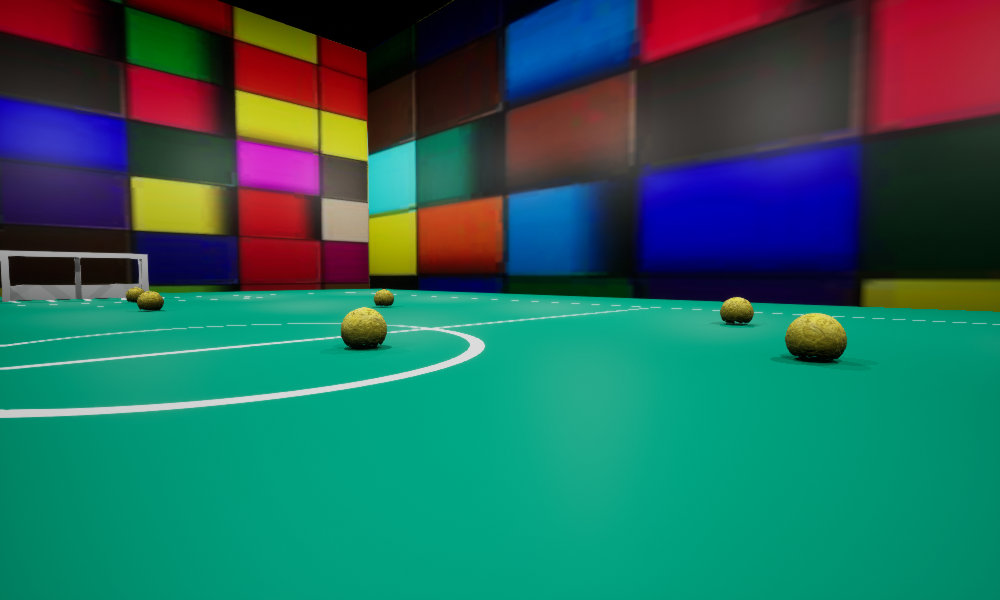b: (785, 313, 846, 361), (341, 307, 386, 348), (720, 297, 753, 324), (137, 291, 163, 309), (374, 289, 393, 305), (126, 287, 144, 301)
g: (0, 250, 148, 301)
